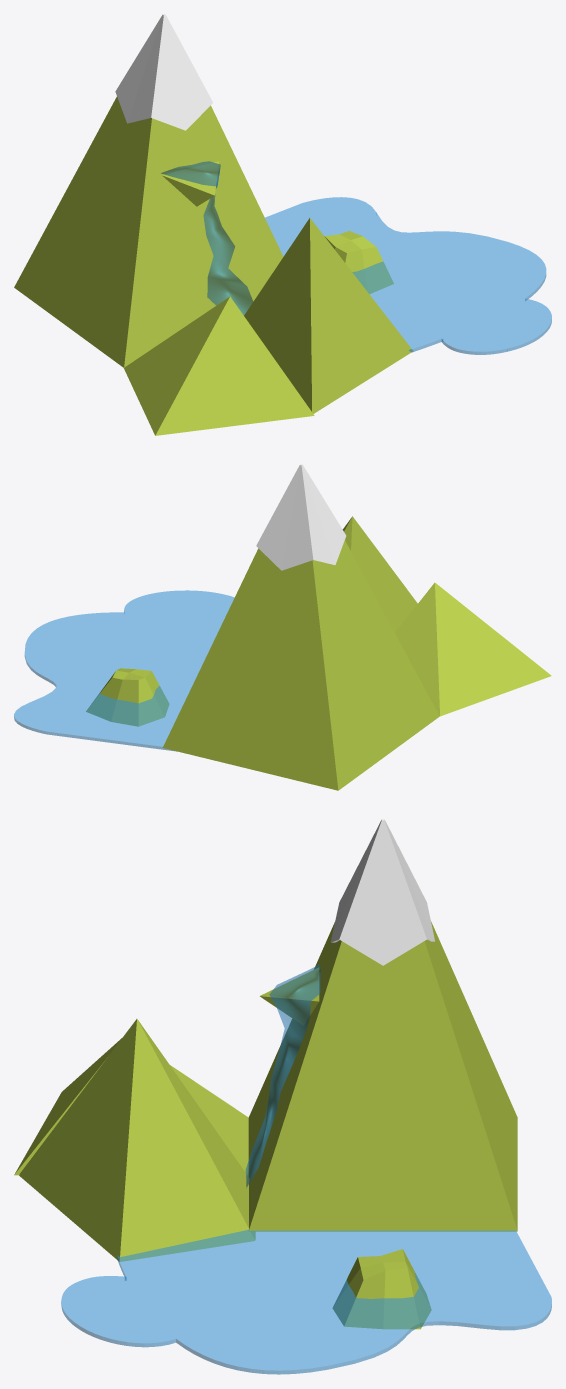
Rendered from MiniWorld_mountainLab.glb.
The picture shows the model from 3 angles, top to bottom: view 1: azimuth 30°, elevation 25°; view 2: azimuth 150°, elevation 25°; view 3: azimuth 270°, elevation 25°; orthographic projection. The views are drawn at different scales.
Visible parts, largest first — view 1: mt_main, waterPond, mt_side, mt_side_small, mt_main_tip, waterfall, rock, Cone; view 2: mt_main, waterPond, mt_side_small, mt_main_tip, rock, mt_side; view 3: mt_main, waterPond, mt_side, mt_main_tip, rock, waterfall, mt_side_small, Cone.
Part boxes in pixels (<box>): mt_main: <box>14,97,283,367</box>; waterPond: <box>265,197,551,354</box>; mt_side: <box>244,218,412,413</box>; mt_side_small: <box>124,296,314,435</box>; mt_main_tip: <box>115,14,213,130</box>; waterfall: <box>161,161,253,315</box>; rock: <box>324,231,393,293</box>; Cone: <box>162,161,219,206</box>; mt_main: <box>162,540,439,790</box>; waterPond: <box>14,590,234,751</box>; mt_side_small: <box>395,582,551,716</box>; mt_main_tip: <box>256,464,346,570</box>; rock: <box>86,668,169,726</box>; mt_side: <box>342,516,417,632</box>; mt_main: <box>248,921,517,1231</box>; waterPond: <box>61,1230,551,1374</box>; mt_side: <box>19,1019,255,1261</box>; mt_main_tip: <box>330,819,434,965</box>; rock: <box>332,1249,431,1329</box>; waterfall: <box>245,964,320,1187</box>; mt_side_small: <box>14,1038,248,1175</box>; Cone: <box>259,967,319,1025</box>.
Bounding box in the file's own units: 21.42 × 13.49 × 17.36.
